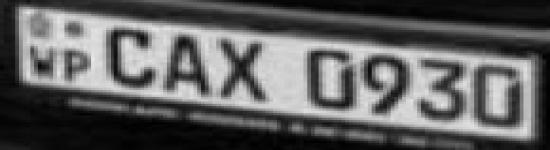0: (302, 44, 360, 113), (470, 61, 528, 129)
3: (414, 55, 470, 124)
9: (361, 52, 414, 117)
A: (158, 30, 216, 99)
C: (102, 22, 158, 91)
P: (60, 46, 95, 84)
W: (24, 42, 60, 81)
X: (216, 34, 272, 106)
